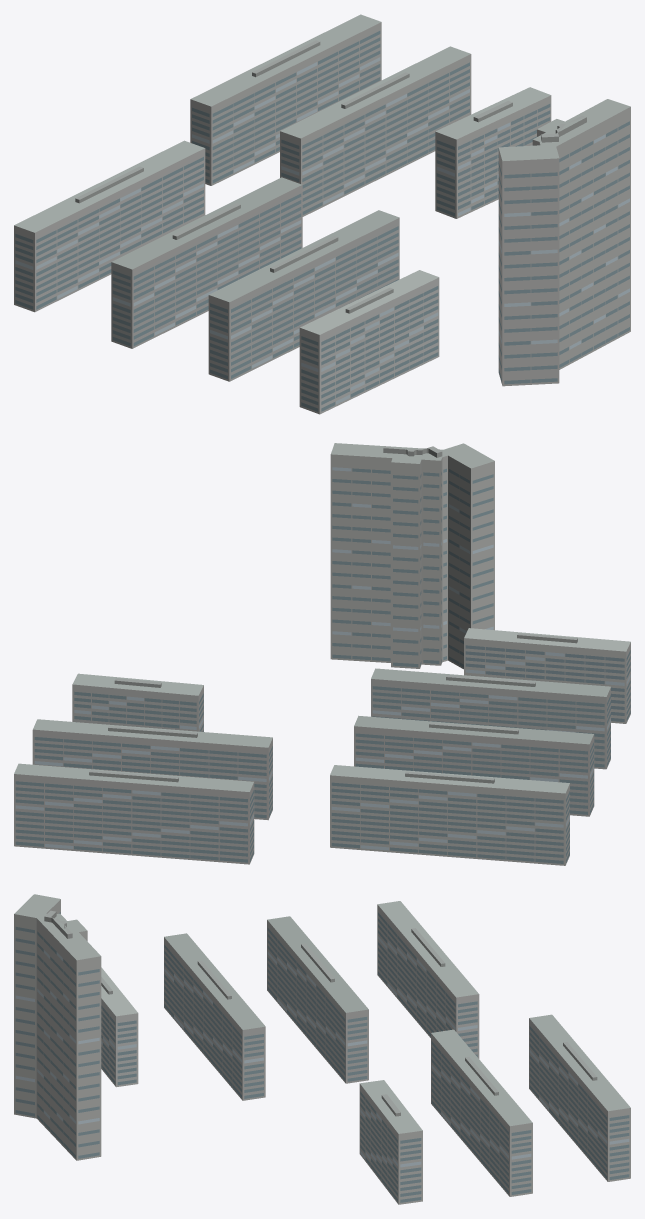
File: apt-a13790929.glb
3 renders of one model, top to bottom at view 1: azimuth 30°, elevation 25°; view 2: azimuth 150°, elevation 25°; view 3: azimuth 270°, elevation 25°, orthographic. The views are drawn at different scales.
Visible parts, largest first — view 1: apt-a13790929; view 2: apt-a13790929; view 3: apt-a13790929.
Boxes of the visible parts, x1,y1,x2,y2 form: apt-a13790929: (14,14,630,414); apt-a13790929: (14,443,630,865); apt-a13790929: (14,894,630,1204).
Size of the model in its own units: 258 by 106 by 289.
